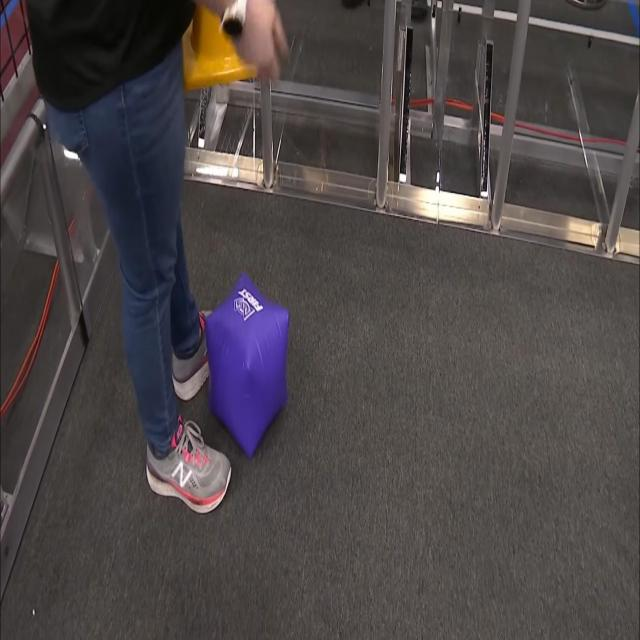frc_cone: (176, 0, 267, 96)
frc_cube: (201, 276, 290, 462)
